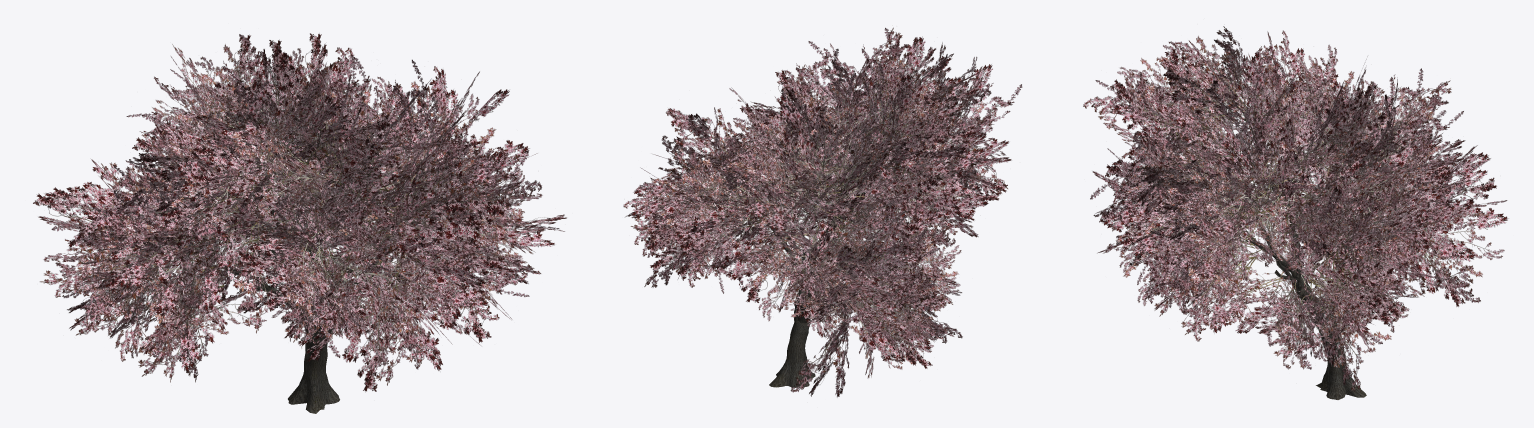
The model's file is japanese_cherry_tree_low-poly.glb.
3 renders of one model, left to right at view 1: azimuth 30°, elevation 25°; view 2: azimuth 150°, elevation 25°; view 3: azimuth 270°, elevation 25°, orthographic. The views are drawn at different scales.
Visible parts, largest first — view 1: Object_4, Object_7, Object_5, Object_3, Object_6, Object_8, Object_2; view 2: Object_4, Object_6, Object_5, Object_7, Object_3, Object_8, Object_2; view 3: Object_5, Object_4, Object_6, Object_3, Object_7, Object_8, Object_2.
Boxes of the visible parts, x1,y1,x2,y2 form: Object_4: [62, 44, 524, 361]; Object_7: [33, 33, 566, 391]; Object_5: [43, 47, 564, 369]; Object_3: [40, 44, 540, 385]; Object_6: [38, 44, 554, 371]; Object_8: [51, 34, 559, 357]; Object_2: [209, 203, 389, 413]; Object_4: [632, 57, 1005, 378]; Object_6: [631, 37, 1011, 397]; Object_5: [623, 37, 996, 392]; Object_7: [646, 32, 1007, 396]; Object_3: [625, 27, 1007, 378]; Object_8: [640, 28, 1022, 348]; Object_2: [767, 188, 870, 388]; Object_5: [1083, 30, 1480, 354]; Object_4: [1093, 36, 1507, 369]; Object_6: [1092, 31, 1508, 366]; Object_3: [1103, 26, 1454, 392]; Object_7: [1099, 49, 1496, 335]; Object_8: [1090, 48, 1476, 369]; Object_2: [1239, 158, 1366, 399].
Bounding box in the file's own units: 10.73 × 9.23 × 10.69.
7 materials, 7 textured.
